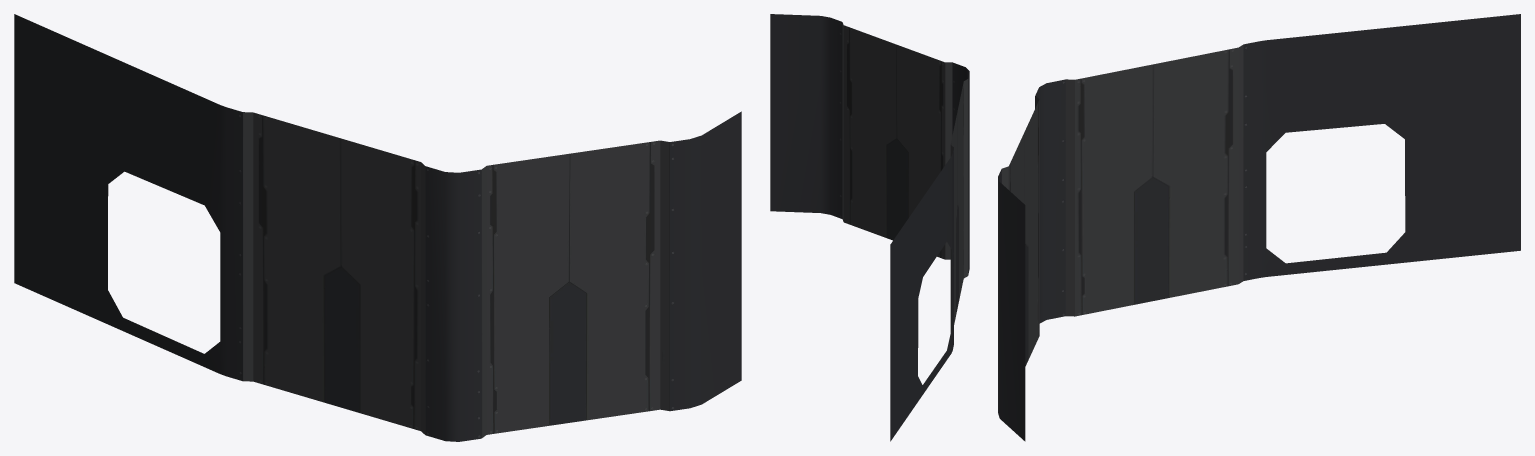
File: case_back_wall.glb
3 renders of one model, left to right at view 1: azimuth 30°, elevation 25°; view 2: azimuth 150°, elevation 25°; view 3: azimuth 270°, elevation 25°, orthographic. The views are drawn at different scales.
Visible parts, largest first — view 1: case_back_wall_low; view 2: case_back_wall_low; view 3: case_back_wall_low.
Part boxes in pixels (x1,y1,x2,y2): case_back_wall_low: (14,14,741,441); case_back_wall_low: (770,14,969,441); case_back_wall_low: (998,14,1520,441).
Bounding box in the file's own units: 3.96 × 2.29 × 4.57.
1 material, 1 textured.
